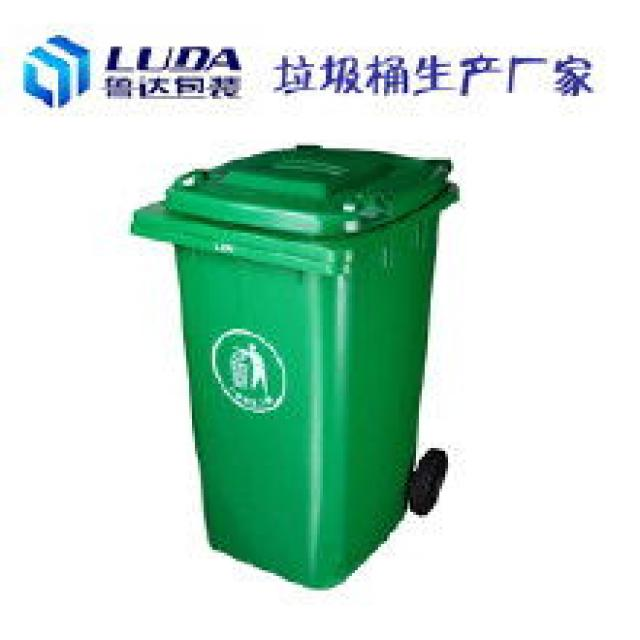garbage_bin: (128, 140, 457, 588)
